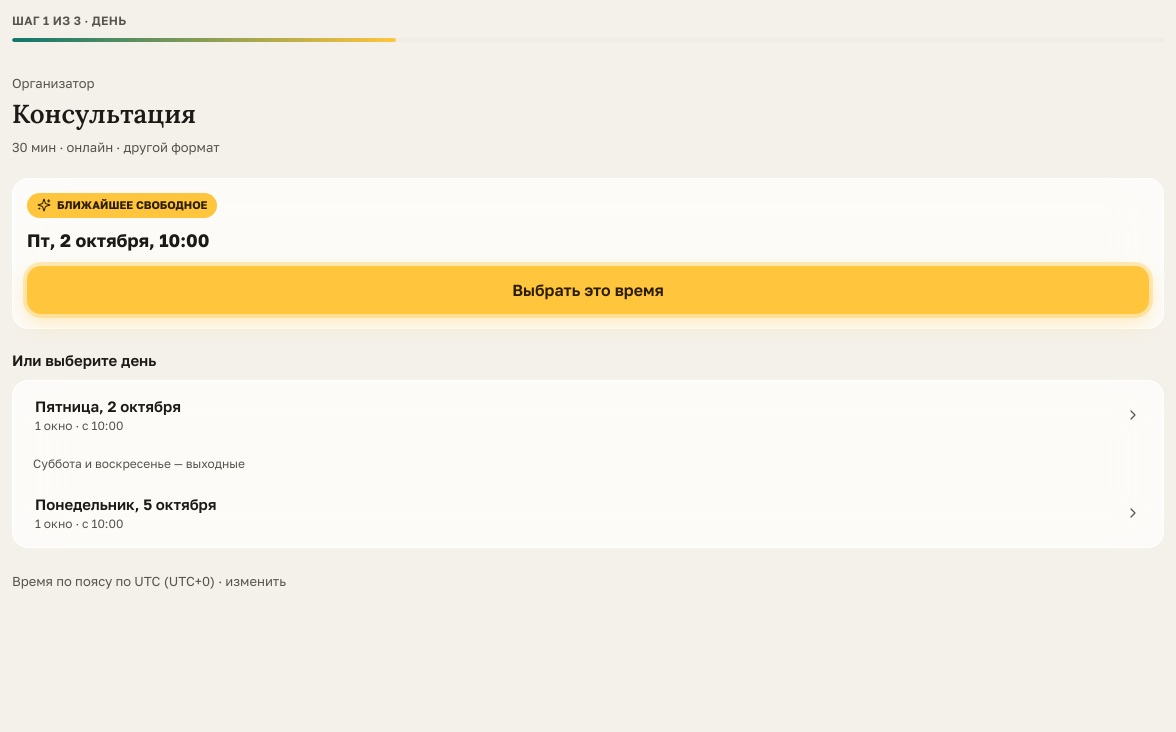
it: BookingWizard › листает доступные дни через выходные, а не соседние календарные
Click the button with aria-label "2026-10-02" at (108, 406), box [21, 389, 1155, 441]
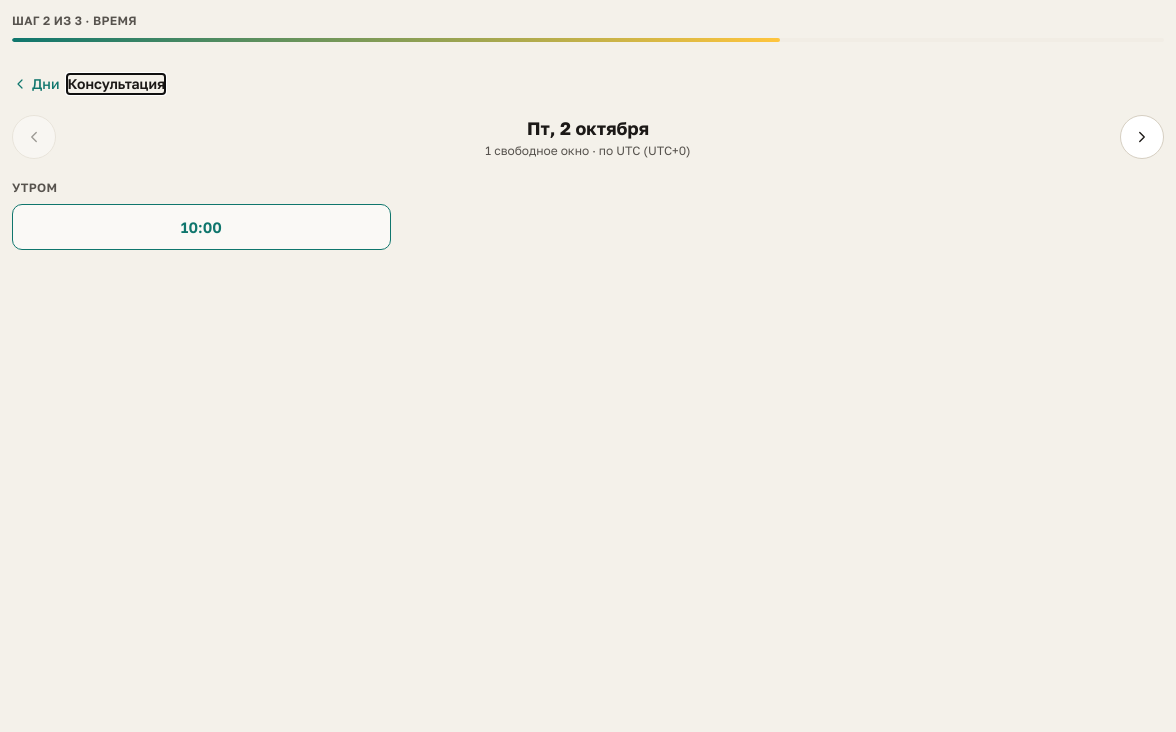
Expected: the text "Пт, 2 октября" is shown, [527, 117, 649, 139]
Click the button named "Следующий день" at (1142, 137), box [1120, 115, 1164, 159]
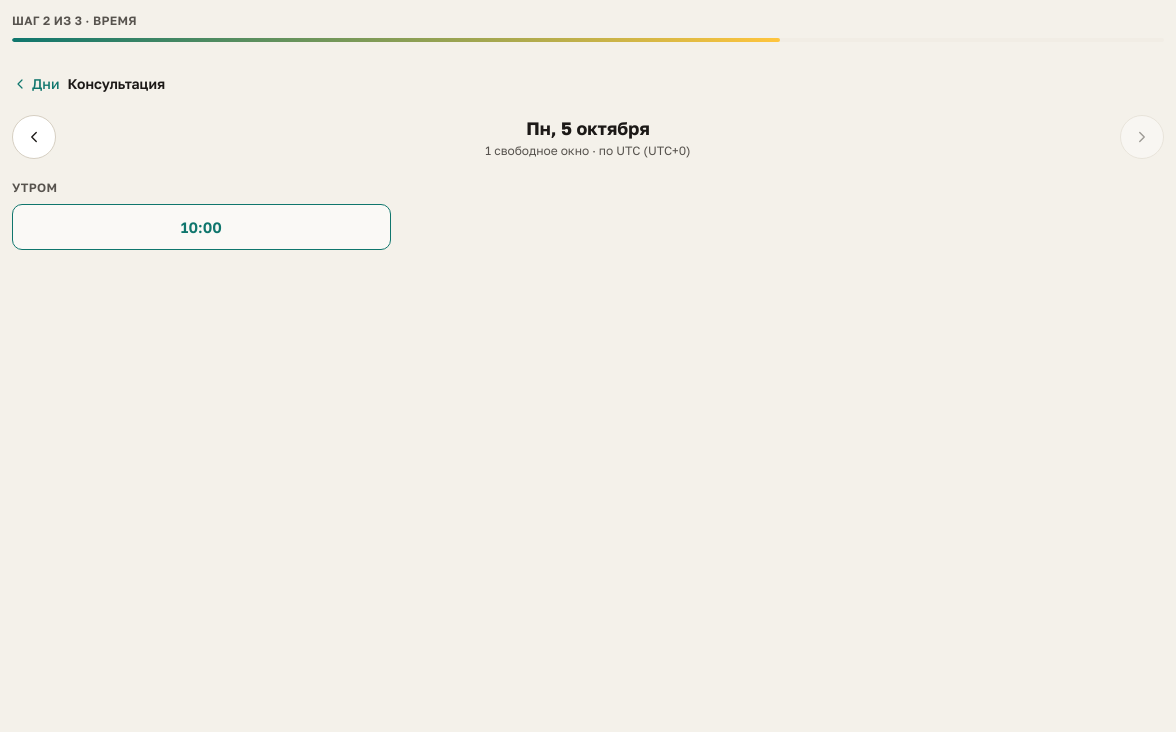
Result: the text "Пн, 5 октября" is shown at [526, 117, 650, 139]
Result: the text "Пт, 2 октября" is gone
